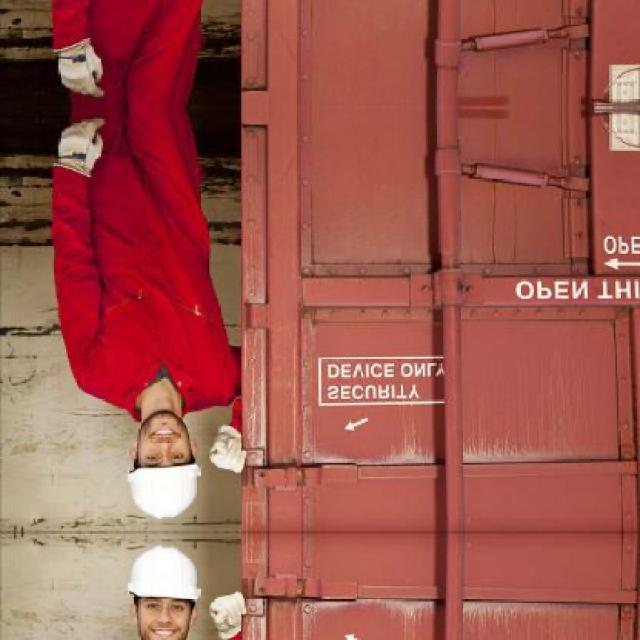con casco: (95, 374, 277, 532)
